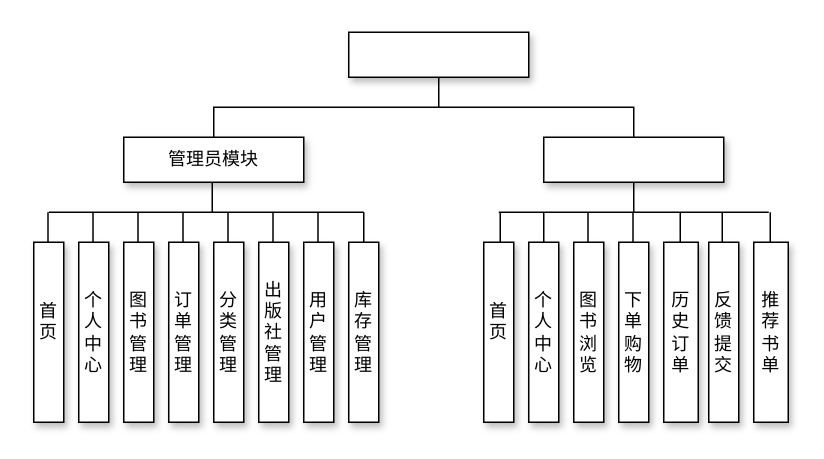
Image size: 824x459. Some labels were removed from this diagram. Each missing label, with the centre of its shape:
图书销售系统: the point at 439,56
用户模块: the point at 634,161
